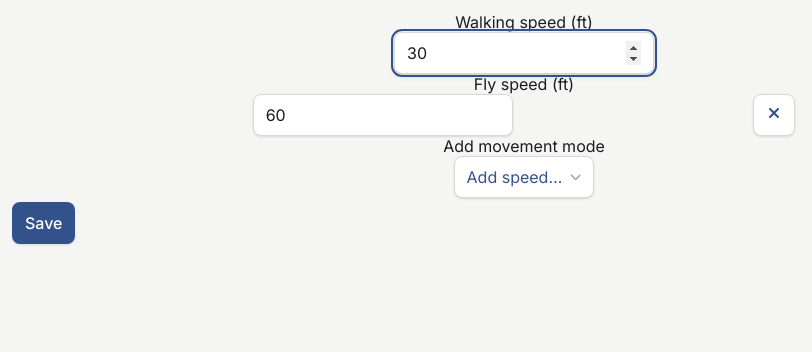
Test: EditSpeeds › offers only the modes the character doesn't already have
What coordinates should you click on to do the following:
click the button with aria-label "Add movement mode"
I would click on:
 (524, 177)
Its box is [454,156,594,198].
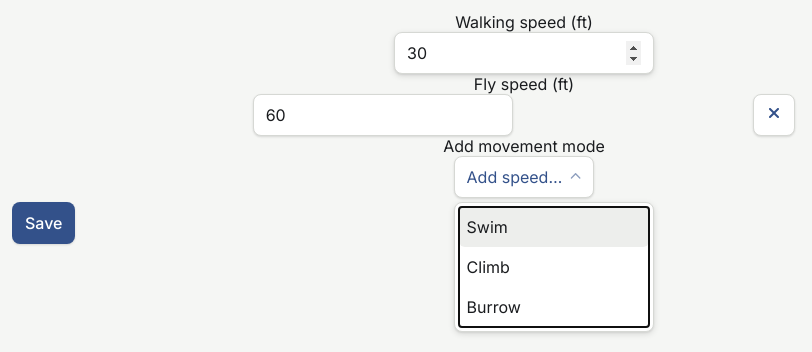
Expected: the option does not show "Fly"
Expected: the text "Swim" is shown, [467,217,508,237]
